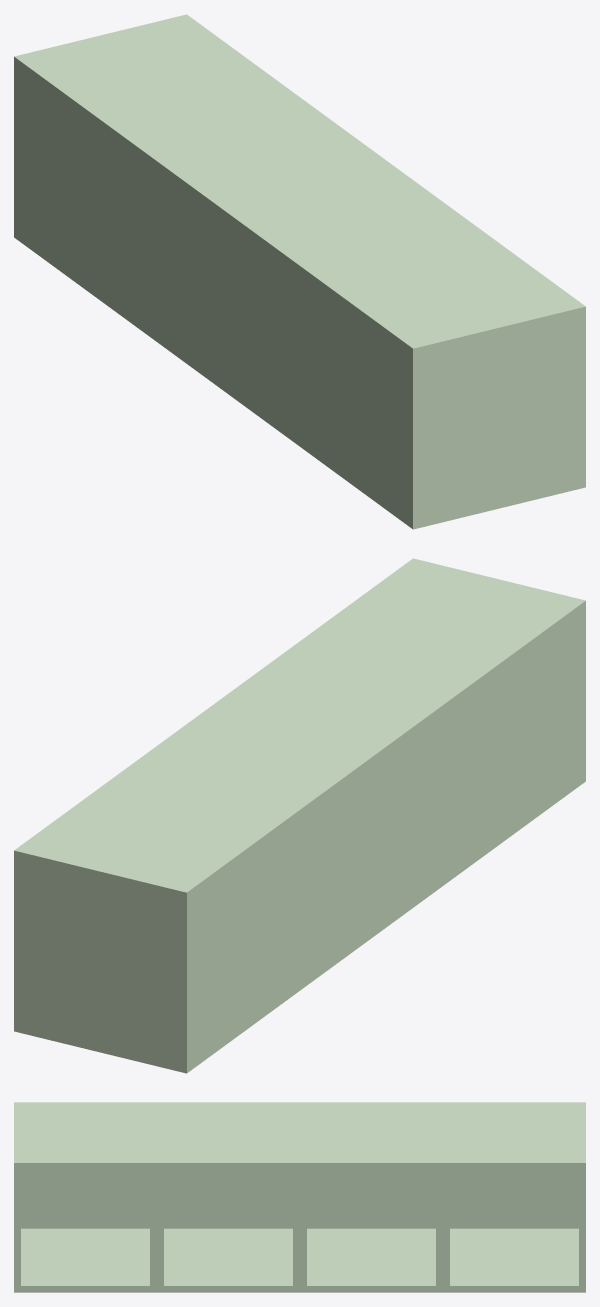
The model's file is ikeaShelf.fbx.
3 views of the same model, one above another, from view 1: azimuth 30°, elevation 25°; view 2: azimuth 150°, elevation 25°; view 3: azimuth 270°, elevation 25° (orthographic). The views are drawn at different scales.
Visible parts, largest first — view 1: Cube.012; view 2: Cube.012; view 3: Cube.012.
Boxes of the visible parts, x1,y1,x2,y2 form: Cube.012: [14, 14, 585, 529]; Cube.012: [14, 558, 585, 1073]; Cube.012: [14, 1102, 585, 1292].
Bounding box in the file's own units: 200 × 200 × 800.
